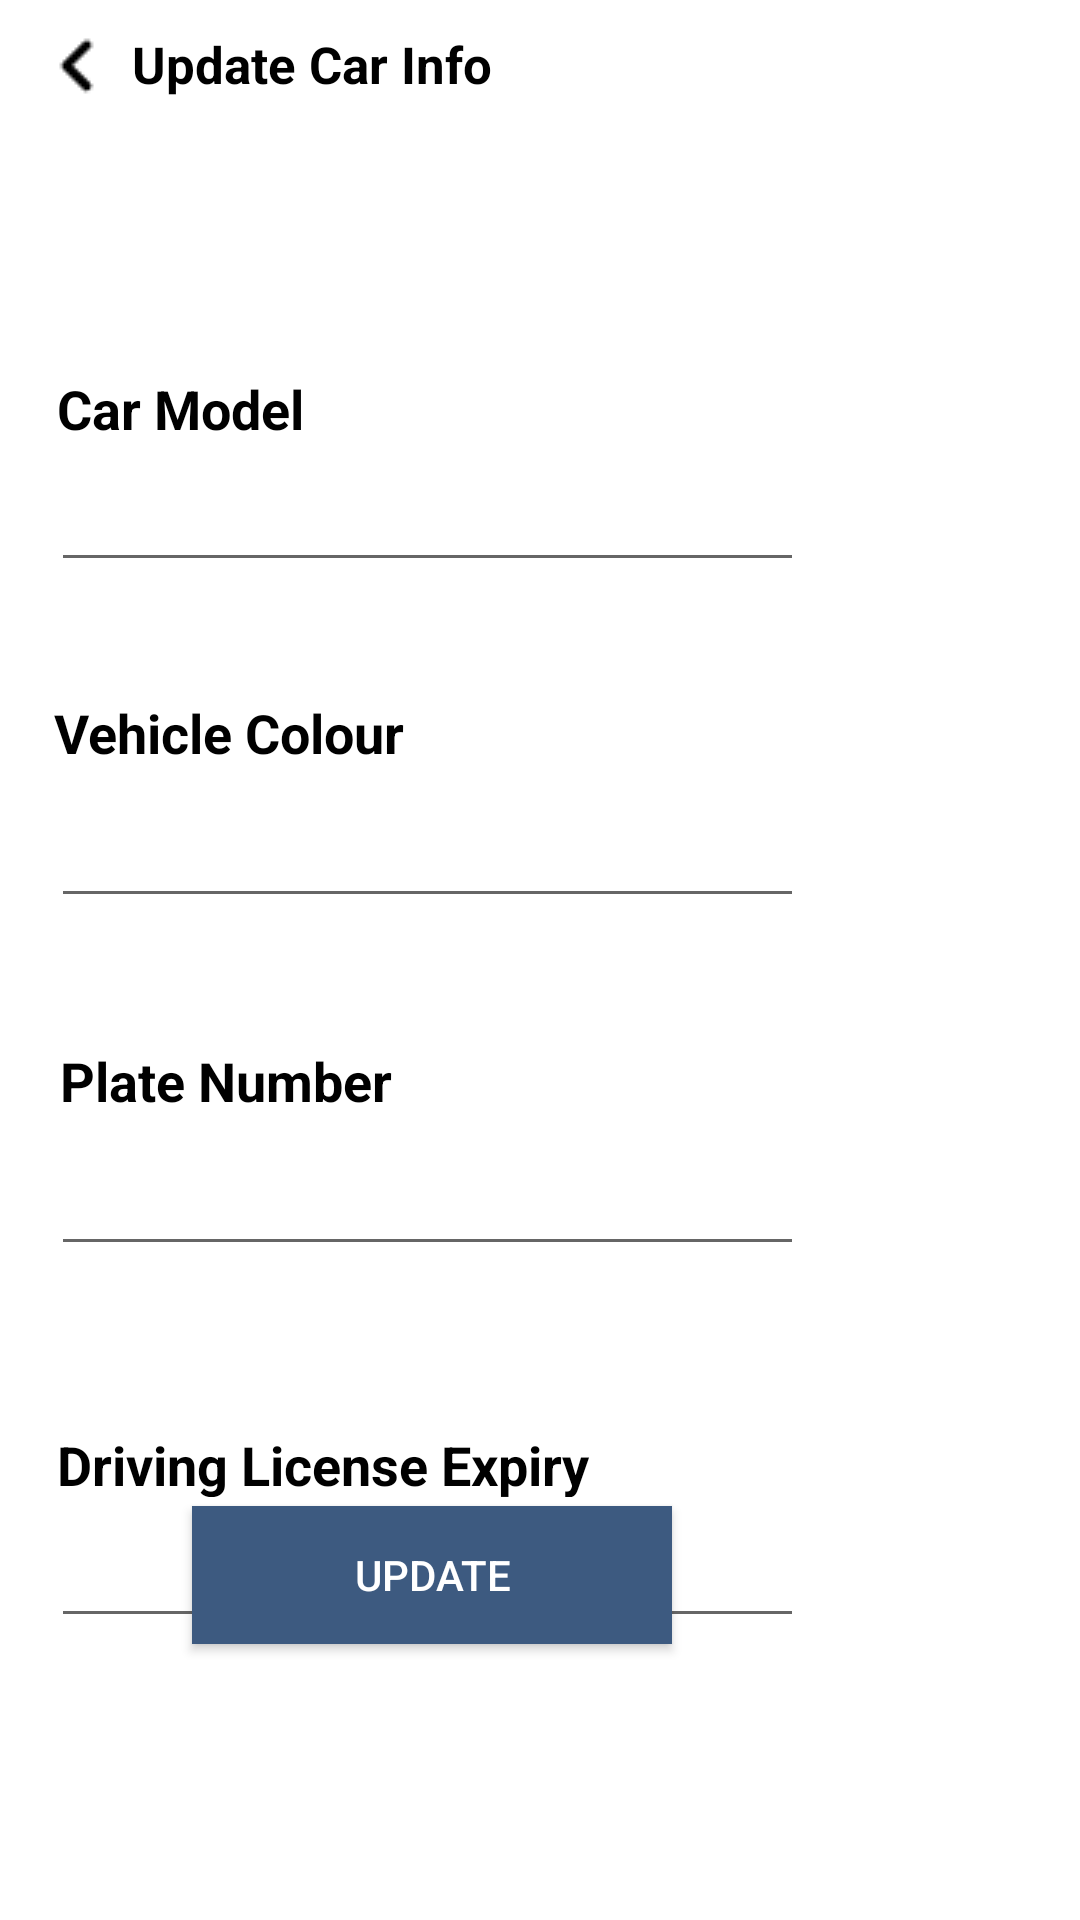

Point at icon controls on the screen. Image size 1080px×1920px, points as point (x, y).
left: point (76, 65)
